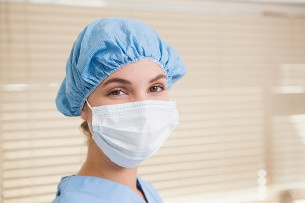Mask: (89, 73, 178, 161)
